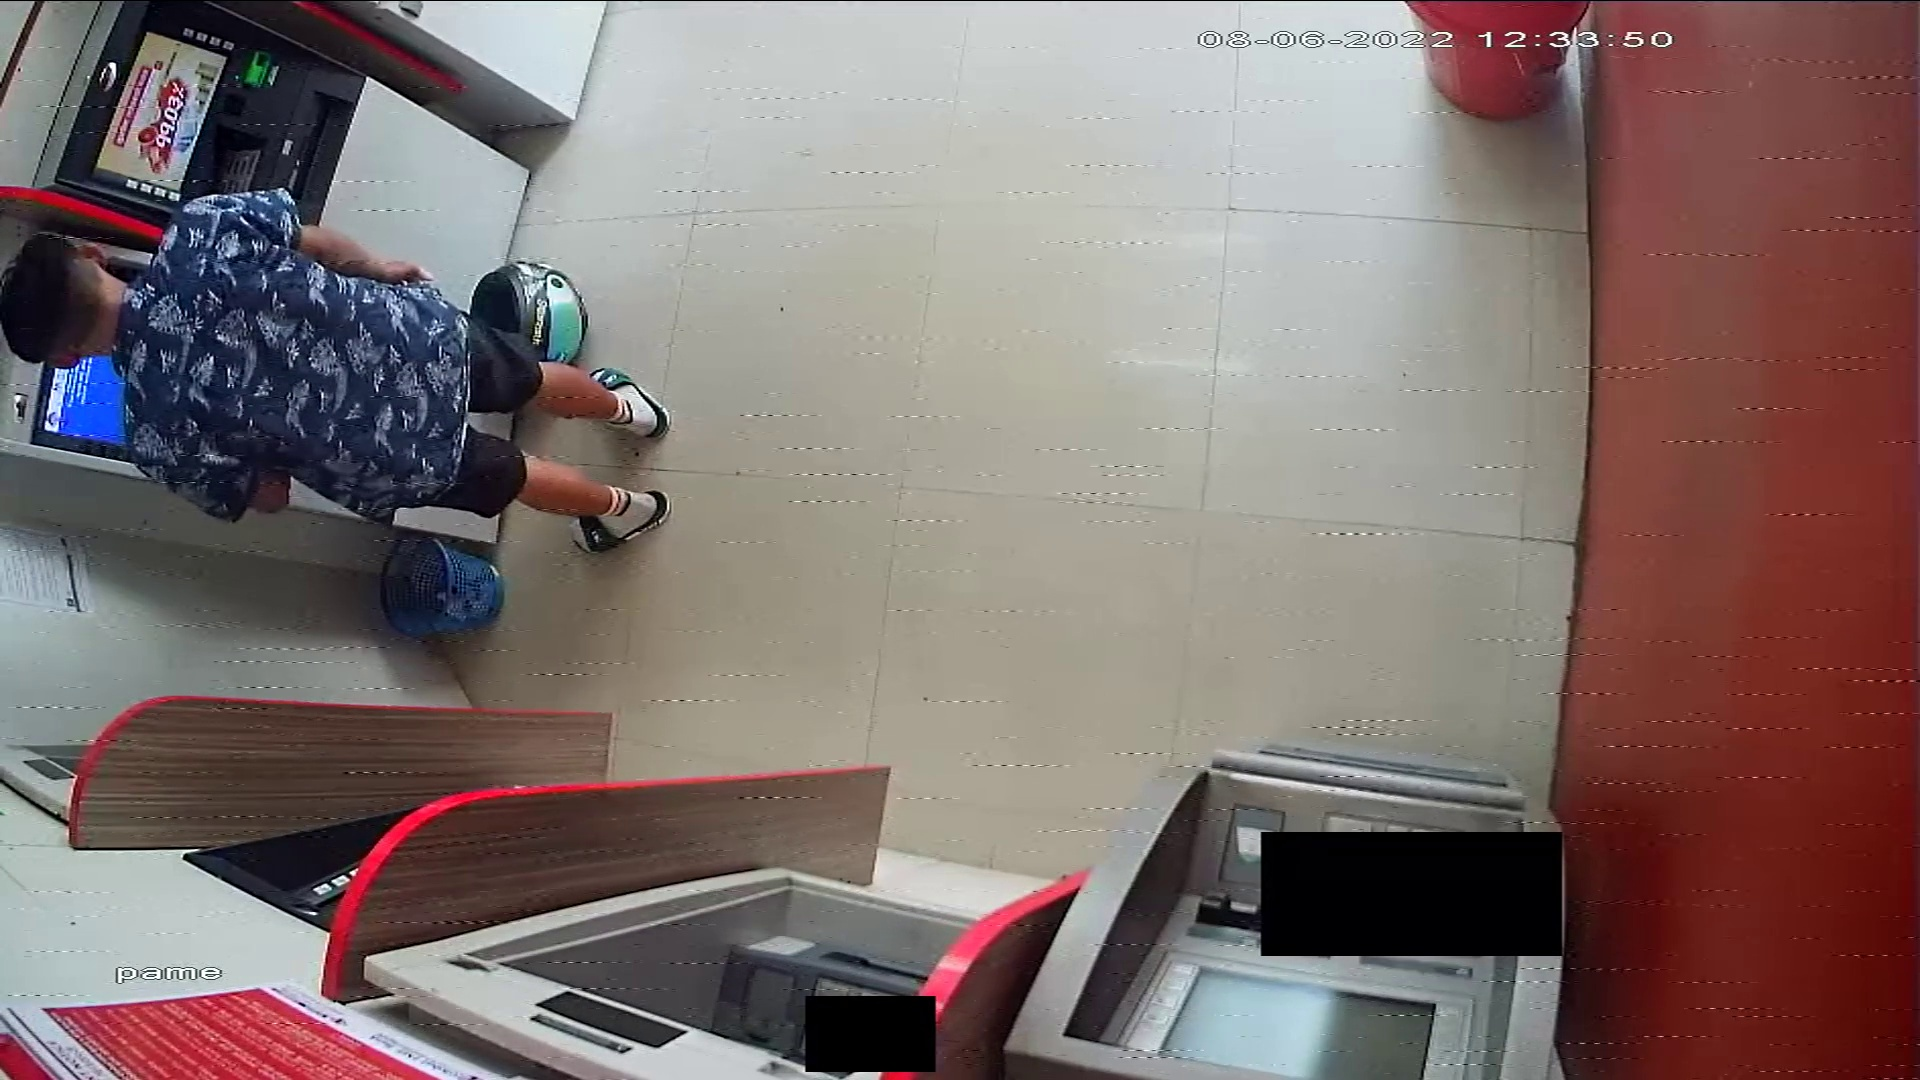helmet: (463, 262, 591, 356)
person: (1, 180, 667, 550)
